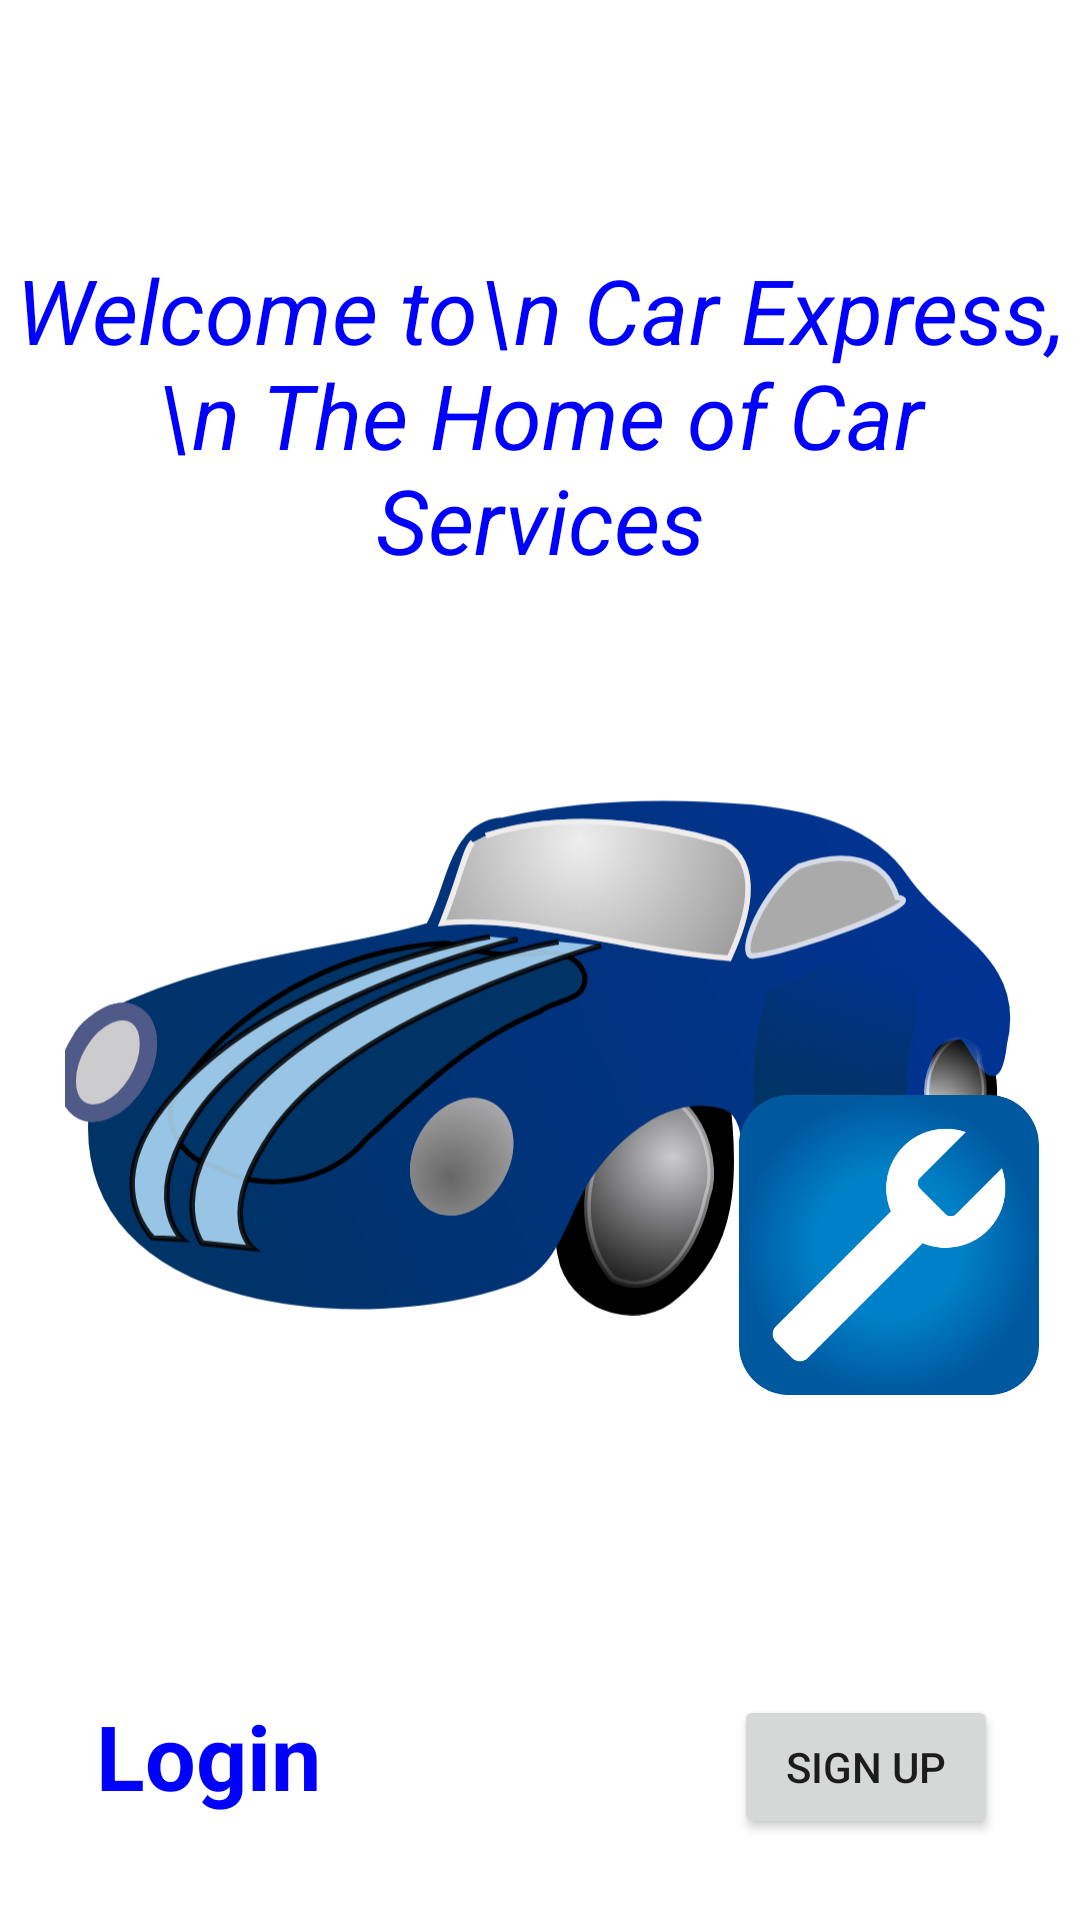

Locate icon controls on the screen. Image size 1080 x 1920, boxes as (x1, y1, x2, y2).
wrench: (739, 1095, 1039, 1395)
